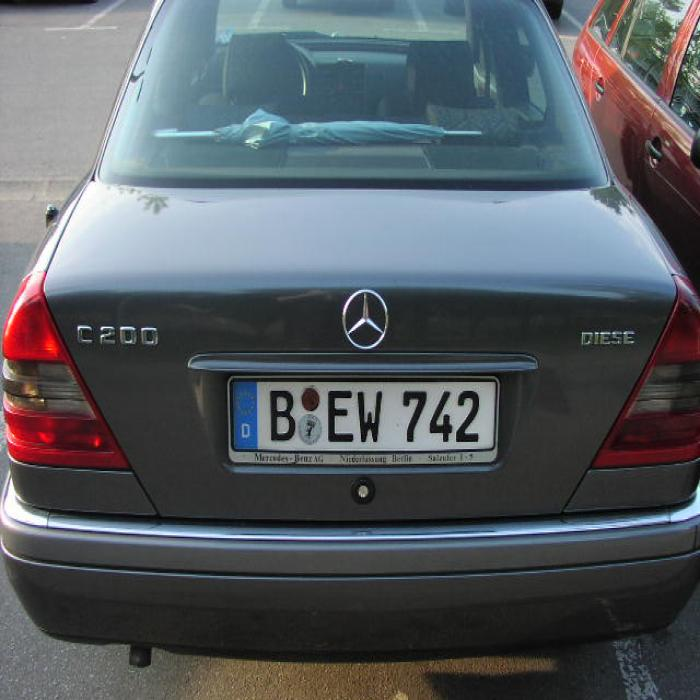number_plate: (229, 380, 491, 447)
